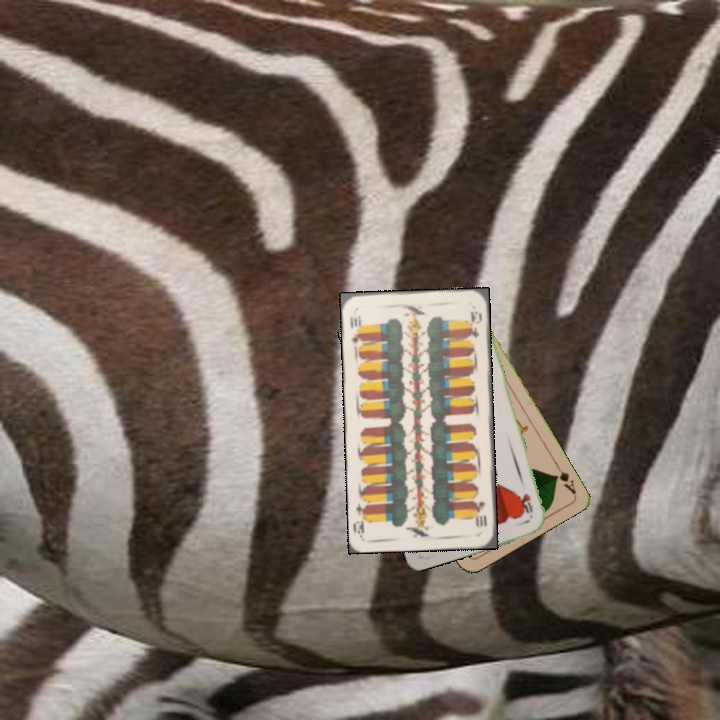E10: (346, 311, 365, 347), (471, 492, 489, 529)
GA: (550, 460, 579, 497)
HO: (516, 489, 535, 516)
